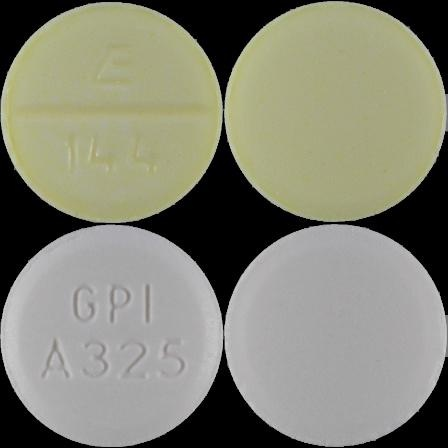0615-4545: (0, 0, 224, 224)
